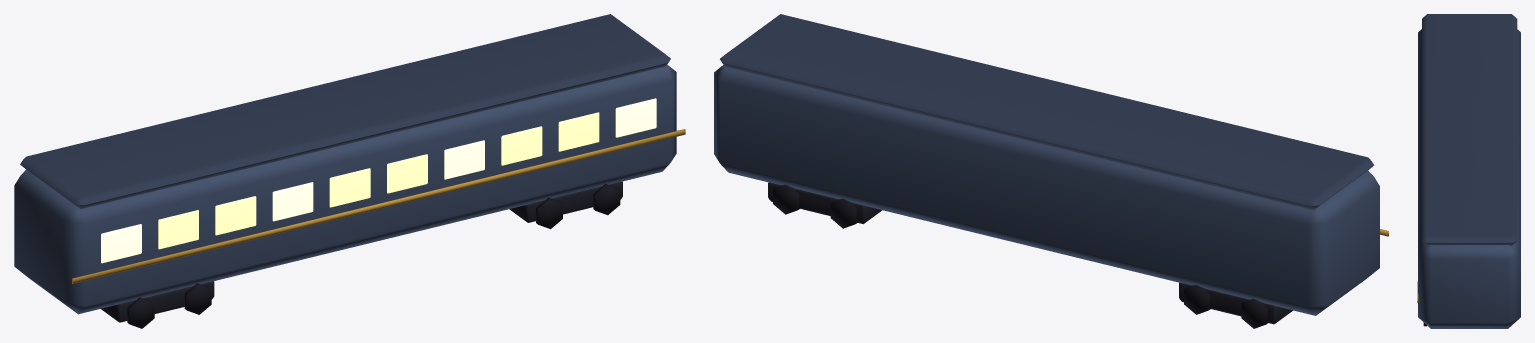
File: train_car.glb
3 renders of one model, left to right at view 1: azimuth 30°, elevation 25°; view 2: azimuth 150°, elevation 25°; view 3: azimuth 270°, elevation 25°, orthographic. The views are drawn at different scales.
Visible parts, largest first — view 1: train_car, windows; view 2: train_car; view 3: train_car, windows.
Part boxes in pixels (box(x1,y1,x2,y2)): train_car: box(14, 14, 685, 328); windows: box(101, 98, 656, 263); train_car: box(714, 14, 1388, 328); train_car: box(1417, 14, 1520, 328); windows: box(1417, 48, 1417, 281).
Bounding box in the file's own units: 15 × 3.4 × 2.83.
